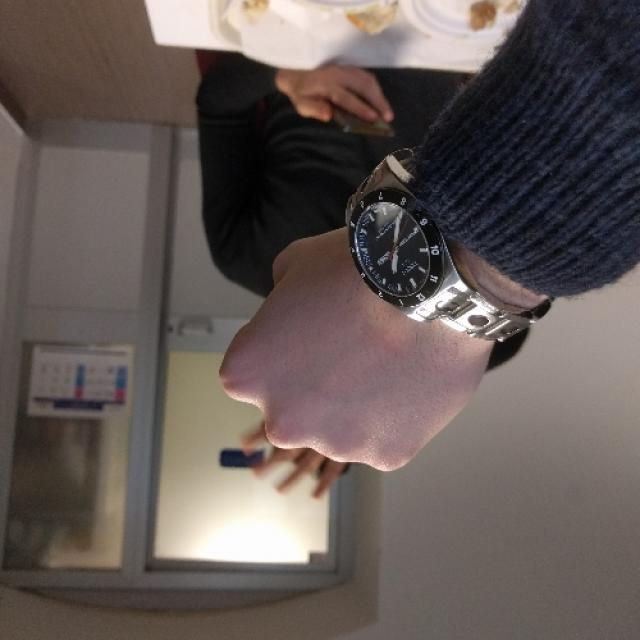rock: (218, 228, 492, 474)
